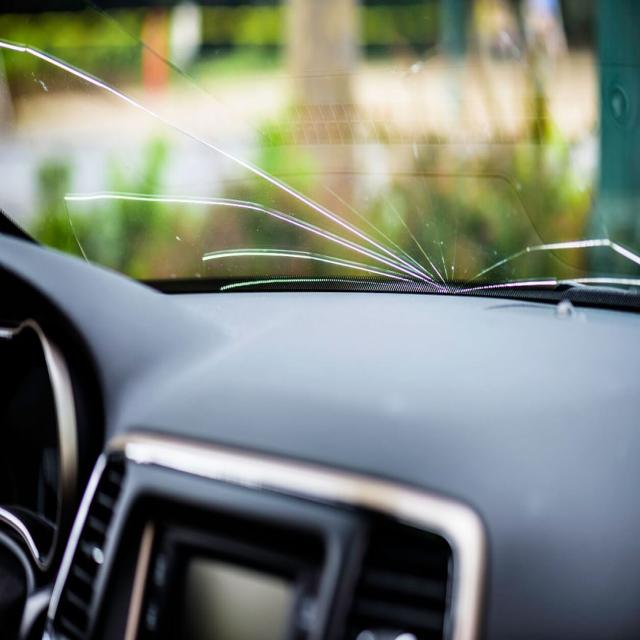crack: (0, 0, 640, 297)
